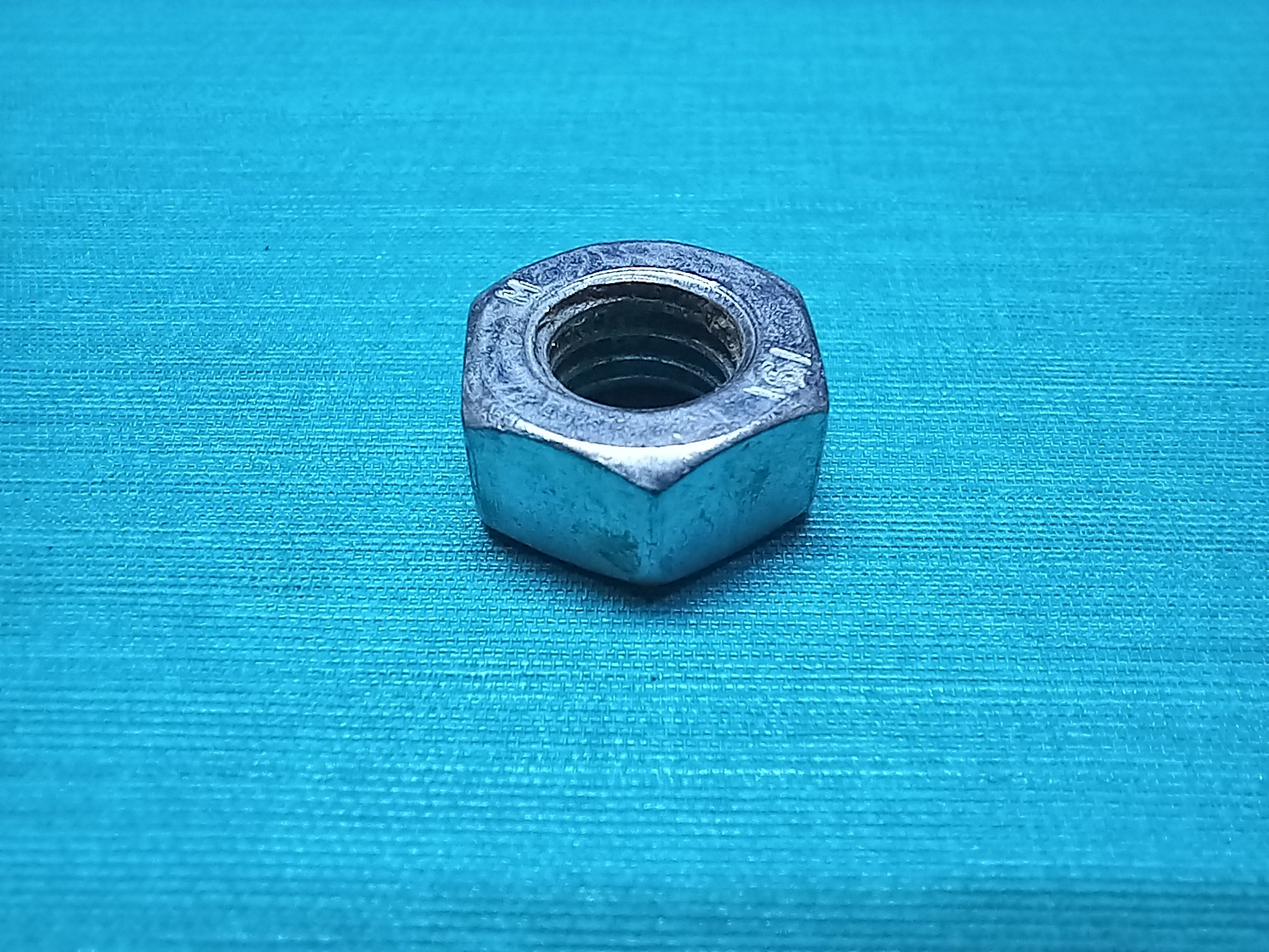nut: (437, 238, 857, 622)
